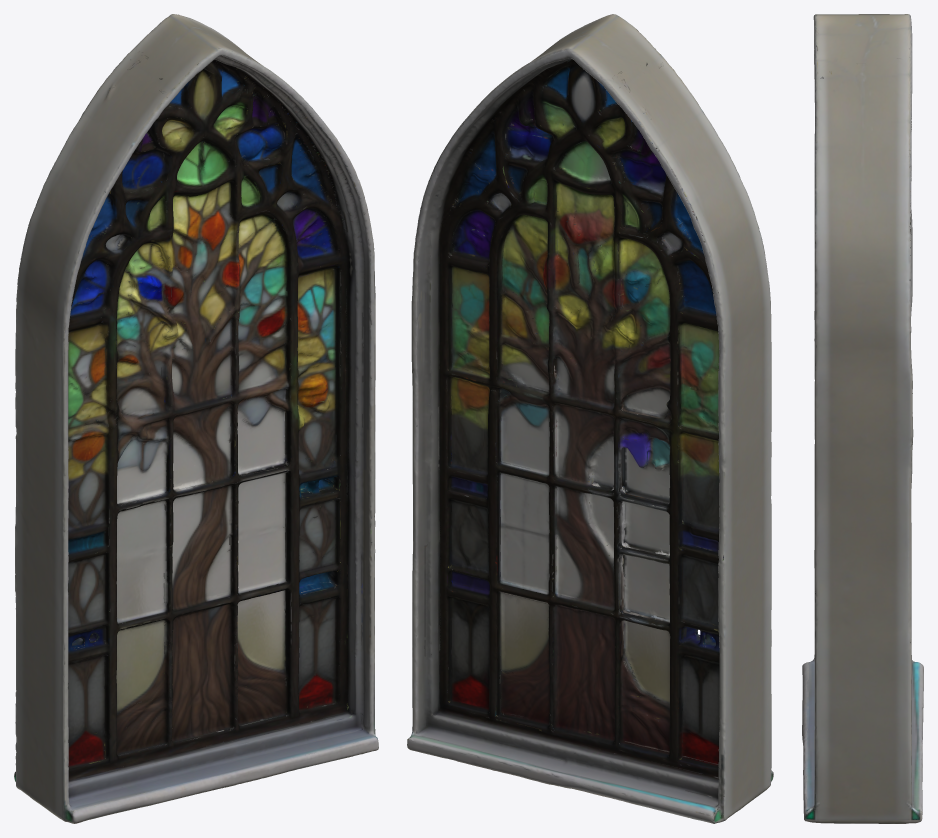
3 views of the same model, side by side, from view 1: azimuth 30°, elevation 25°; view 2: azimuth 150°, elevation 25°; view 3: azimuth 270°, elevation 25° (orthographic).
Parts seen in each view (by area): view 1: Mesh_0; view 2: Mesh_0; view 3: Mesh_0.
Part boxes in pixels (box(x1,y1,x2,y2)): Mesh_0: box(14, 14, 378, 823); Mesh_0: box(407, 14, 773, 823); Mesh_0: box(802, 14, 923, 823).
Size of the model in its own units: 89.56 by 201 by 30.28.
Materials: 1 (1 with a texture image).
